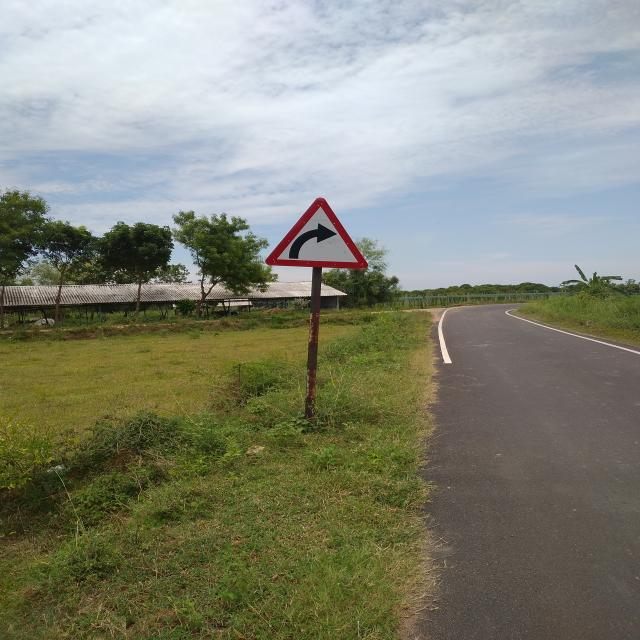right hand curve: (264, 193, 373, 274)
